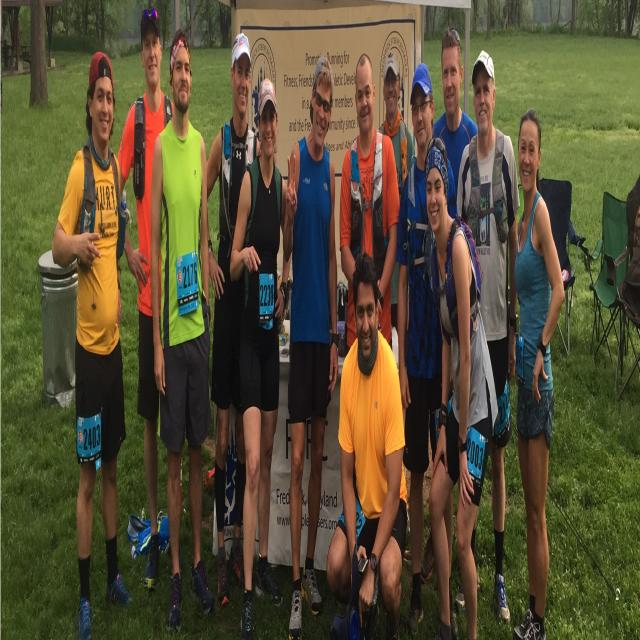body: (52, 47, 136, 639), (150, 28, 216, 634), (453, 47, 521, 624), (423, 136, 499, 639), (228, 73, 294, 639), (396, 58, 460, 640), (114, 4, 176, 593), (200, 30, 262, 610), (325, 248, 408, 640), (284, 53, 339, 639), (514, 104, 566, 640), (339, 48, 401, 375), (376, 45, 416, 342), (432, 25, 479, 200)
